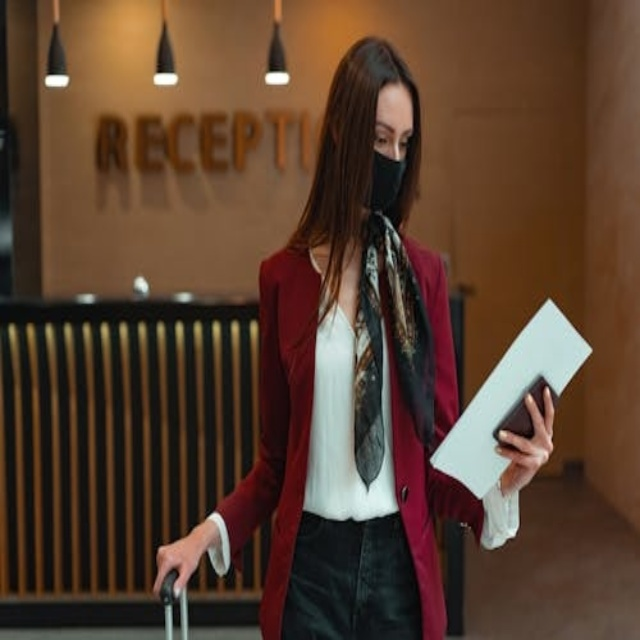Mascara: (368, 148, 408, 216)
Sin_gafas: (371, 115, 415, 152)
Sin_guantes: (495, 386, 555, 495), (148, 525, 204, 598)
